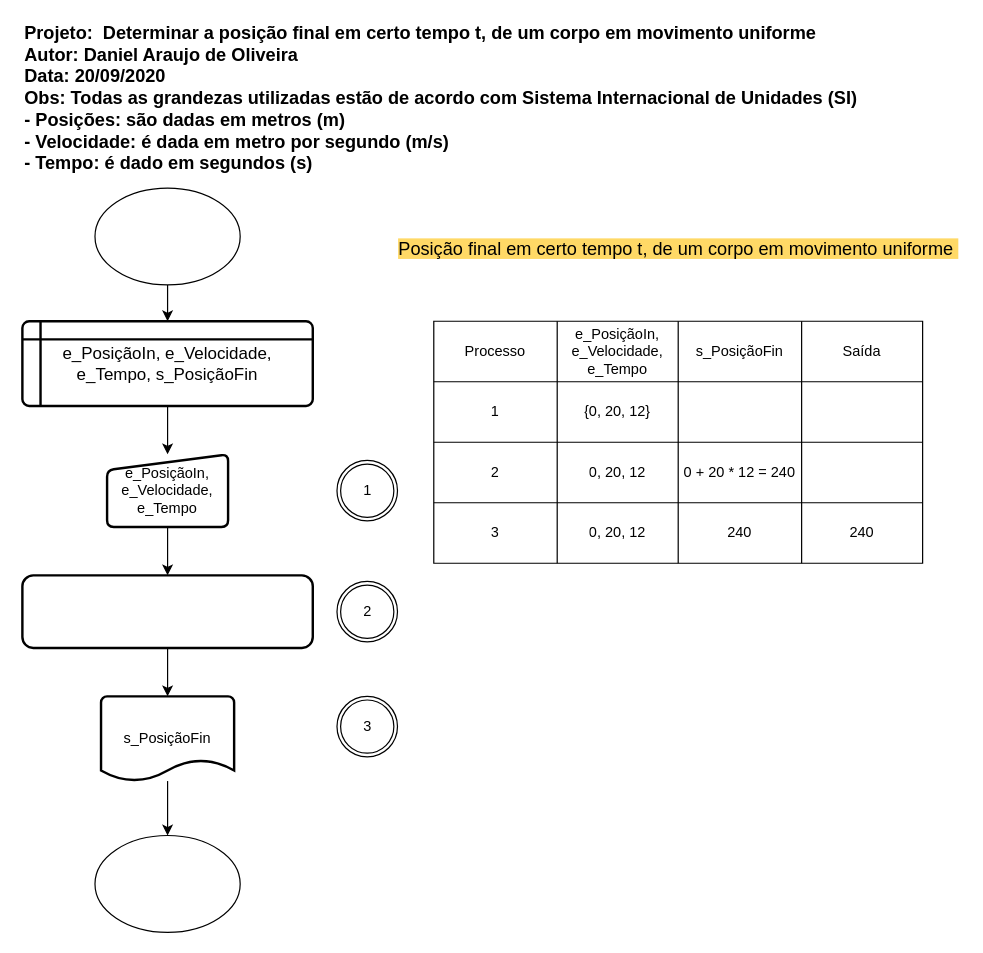
This 983x953 diagram has some shape labels left out. The box of each missing label's shape, as (x1, y1, x2, y2) in pixels:
Fim: (94, 834, 240, 932)
Inicio: (94, 187, 240, 285)
s_PosiçãoFin = e_PosiçãoIn + e_Velocidade * e_Tempo: (21, 574, 313, 649)
